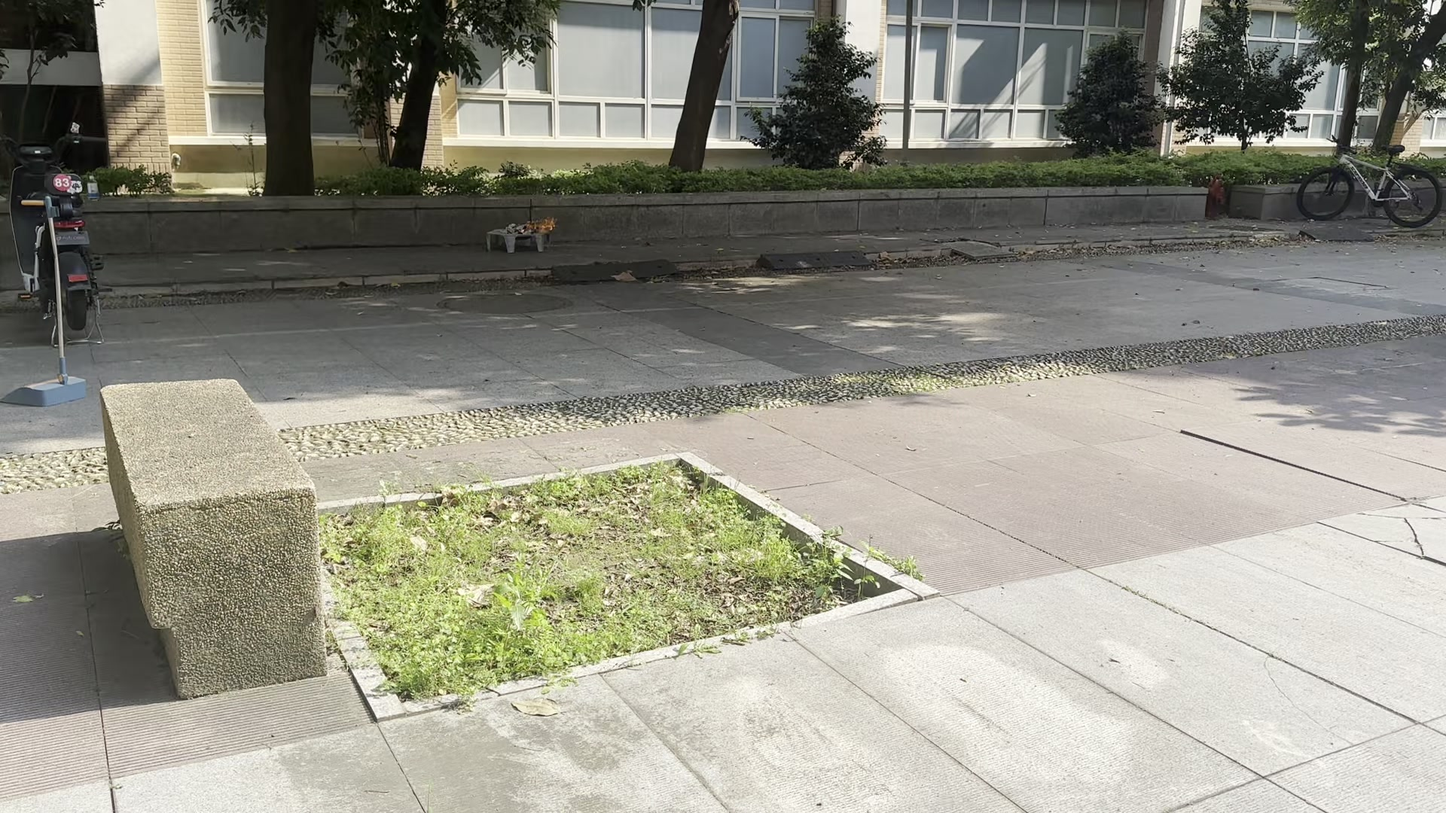fire: (527, 216, 557, 233)
